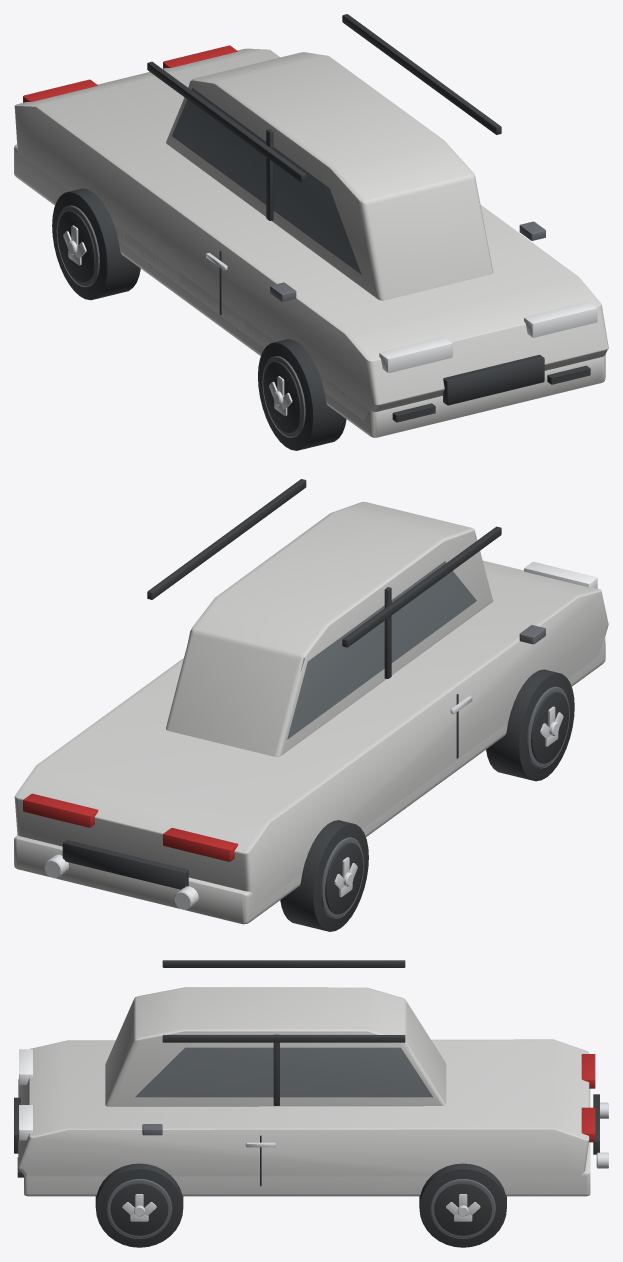
File: aurora-suv.glb
3 views of the same model, one above another, from view 1: azimuth 30°, elevation 25°; view 2: azimuth 150°, elevation 25°; view 3: azimuth 270°, elevation 25° (orthographic). The views are drawn at different scales.
Parts seen in each view (by area): view 1: paint, trim, glass, head, accent, tail, rim; view 2: paint, trim, glass, tail, rim, accent, head; view 3: paint, trim, glass, accent, rim, head, tail.
Part boxes in pixels (box(x1,y1,x2,y2)): paint: box(14, 48, 608, 437); trim: box(52, 14, 590, 450); glass: box(172, 81, 361, 274); head: box(379, 301, 597, 372); accent: box(56, 205, 545, 437); tail: box(23, 45, 237, 102); rim: box(63, 225, 292, 416); paint: box(14, 501, 608, 924); trim: box(62, 479, 574, 931); glass: box(187, 561, 476, 739); tail: box(23, 793, 238, 861); rim: box(44, 696, 563, 909); accent: box(321, 625, 569, 918); head: box(524, 562, 597, 588); paint: box(18, 987, 590, 1196); trim: box(14, 960, 599, 1247); glass: box(135, 1045, 432, 1097); accent: box(106, 1124, 495, 1238); rim: box(122, 1102, 608, 1221); head: box(19, 1049, 33, 1140); tail: box(581, 1054, 595, 1142).
Bounding box in the file's own units: 2.27 × 1.96 × 5.3.
